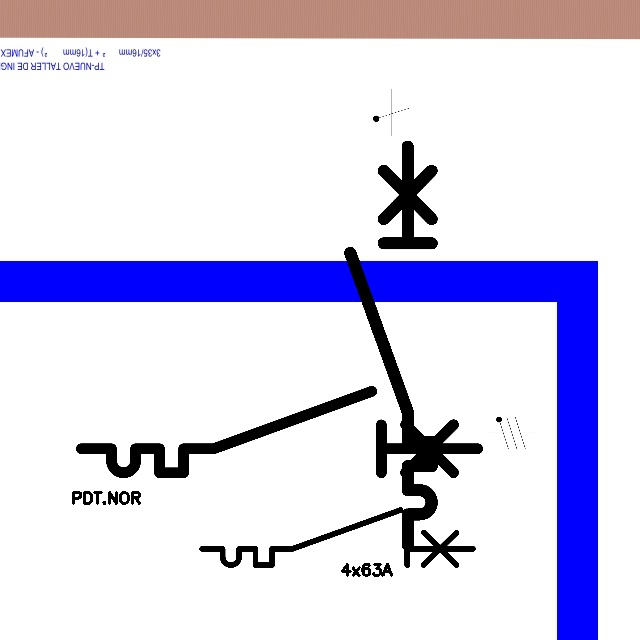interruptor_termomagnetico: (340, 136, 442, 555), (71, 381, 488, 483), (195, 503, 479, 572)
